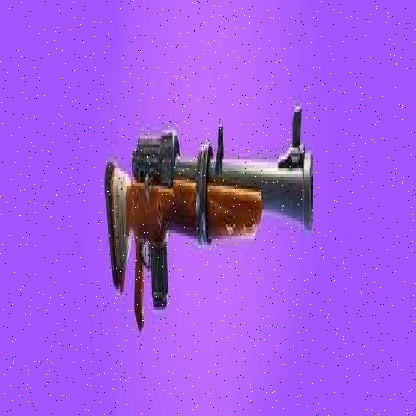rifle: (89, 86, 325, 369)
